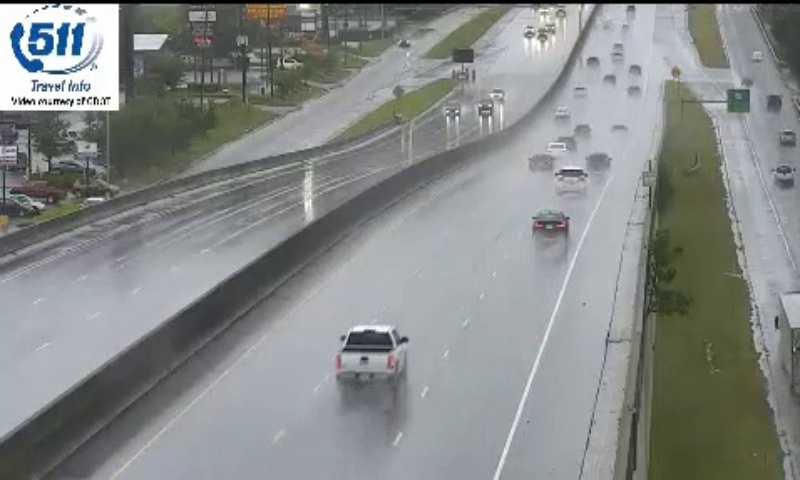car: (336, 325, 406, 380), (532, 209, 569, 238), (555, 167, 585, 194)
